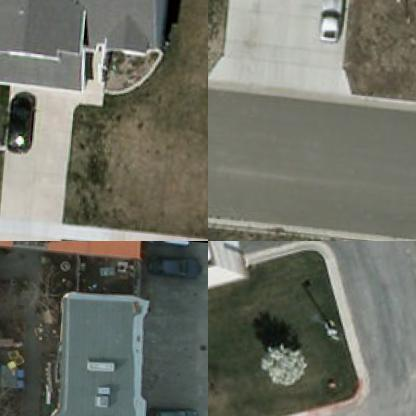car: (7, 90, 38, 152), (146, 247, 200, 272), (318, 0, 346, 38), (148, 396, 197, 415)
